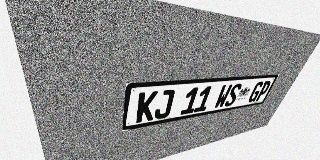1: (180, 87, 201, 115), (193, 86, 214, 112)
G: (247, 81, 265, 103)
J: (153, 89, 175, 120)
K: (136, 91, 158, 123)
P: (254, 80, 272, 101)
S: (223, 83, 243, 107)
W: (213, 84, 233, 109)
